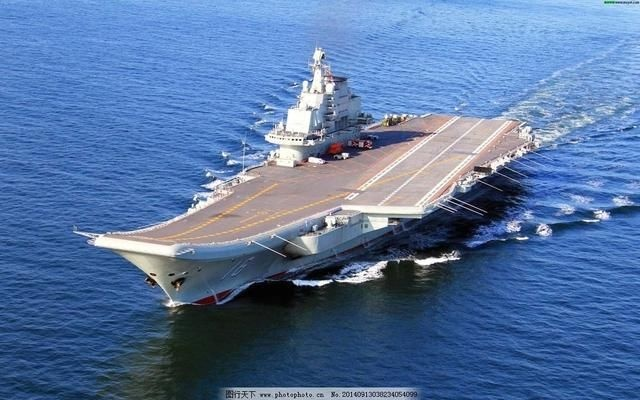warship: (72, 49, 546, 299)
